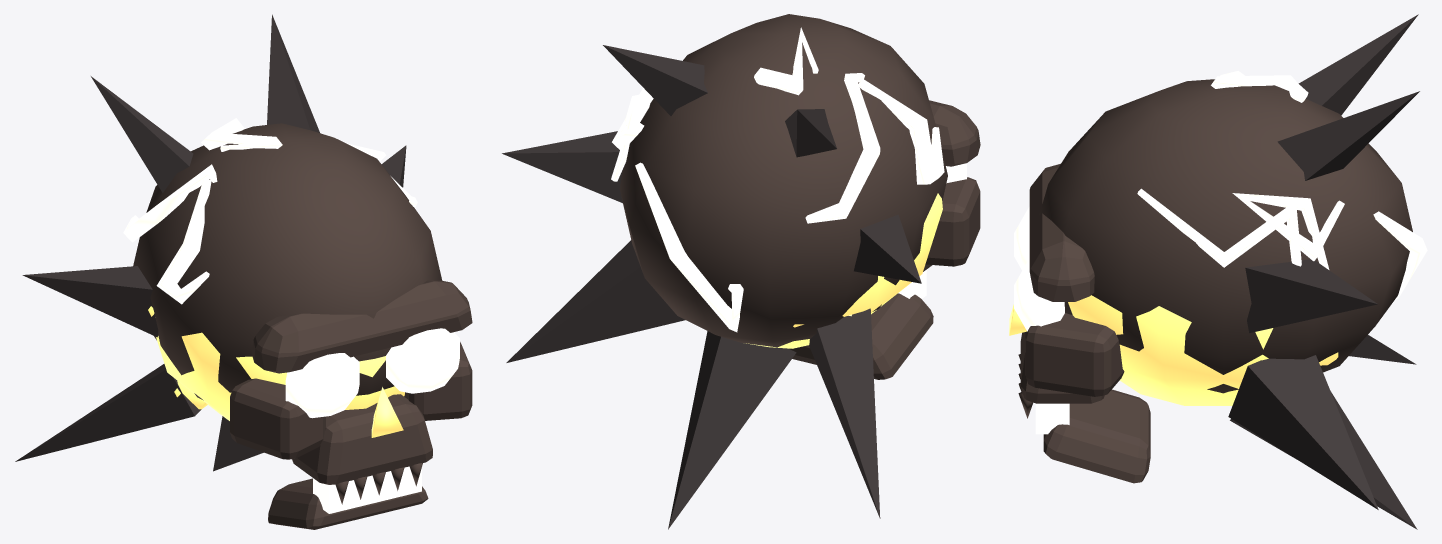
The model's file is hellfire_core.glb.
The picture shows the model from 3 angles, left to right: view 1: azimuth 30°, elevation 25°; view 2: azimuth 150°, elevation 25°; view 3: azimuth 270°, elevation 25°; orthographic projection. The views are drawn at different scales.
Visible parts, largest first — view 1: hellfire_core; view 2: hellfire_core; view 3: hellfire_core.
Boxes of the visible parts, <box> form: hellfire_core: <box>15,14,472,529</box>; hellfire_core: <box>502,14,980,529</box>; hellfire_core: <box>1009,14,1427,529</box>.
Bounding box in the file's own units: 0.4205 × 0.4556 × 0.3672.
